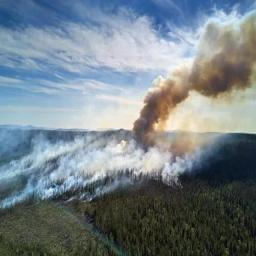Heavy smoke: (0, 11, 254, 211)
